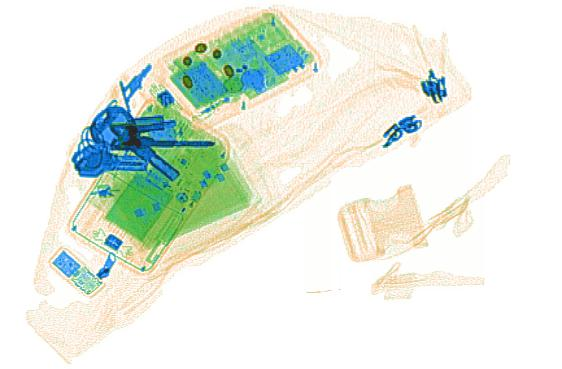USBFlashDisk: (49, 250, 104, 299)
